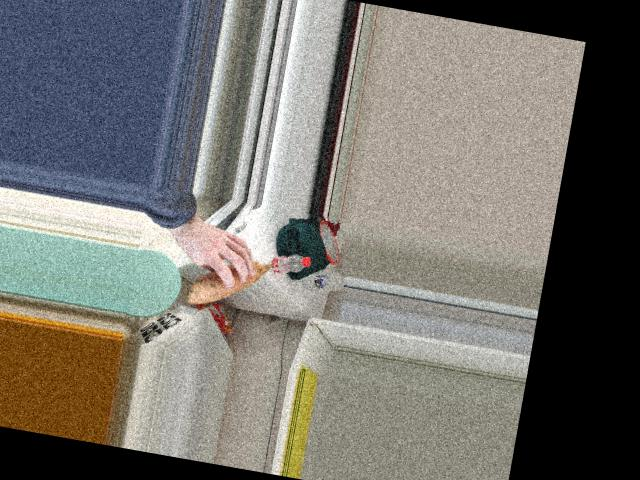sweet_potato: (197, 243, 270, 314)
